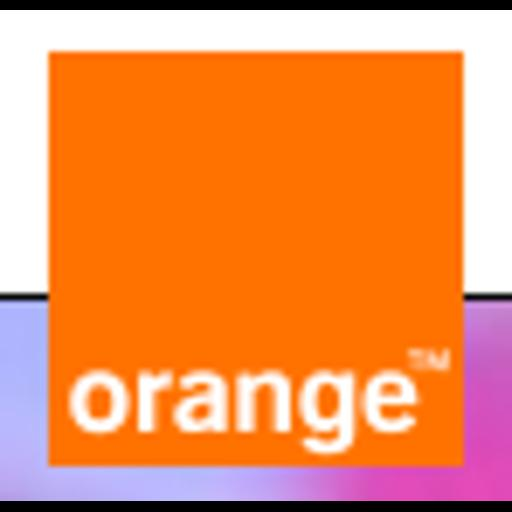Orange: (0, 10, 512, 501)
